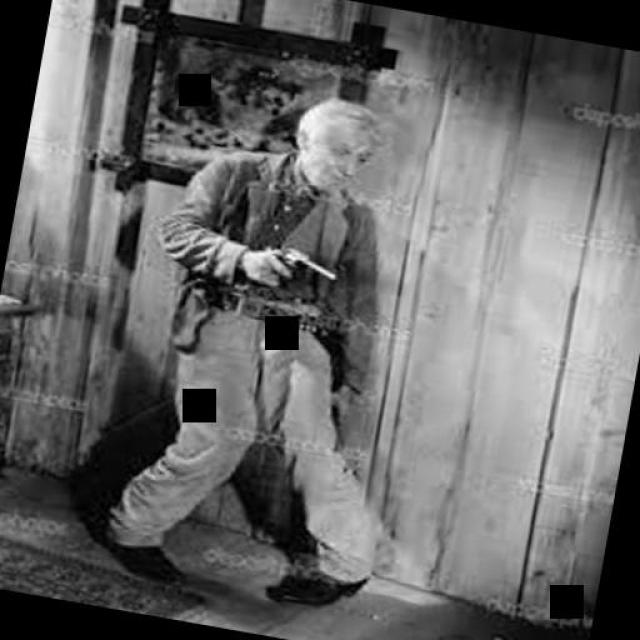gun: (264, 243, 338, 275)
